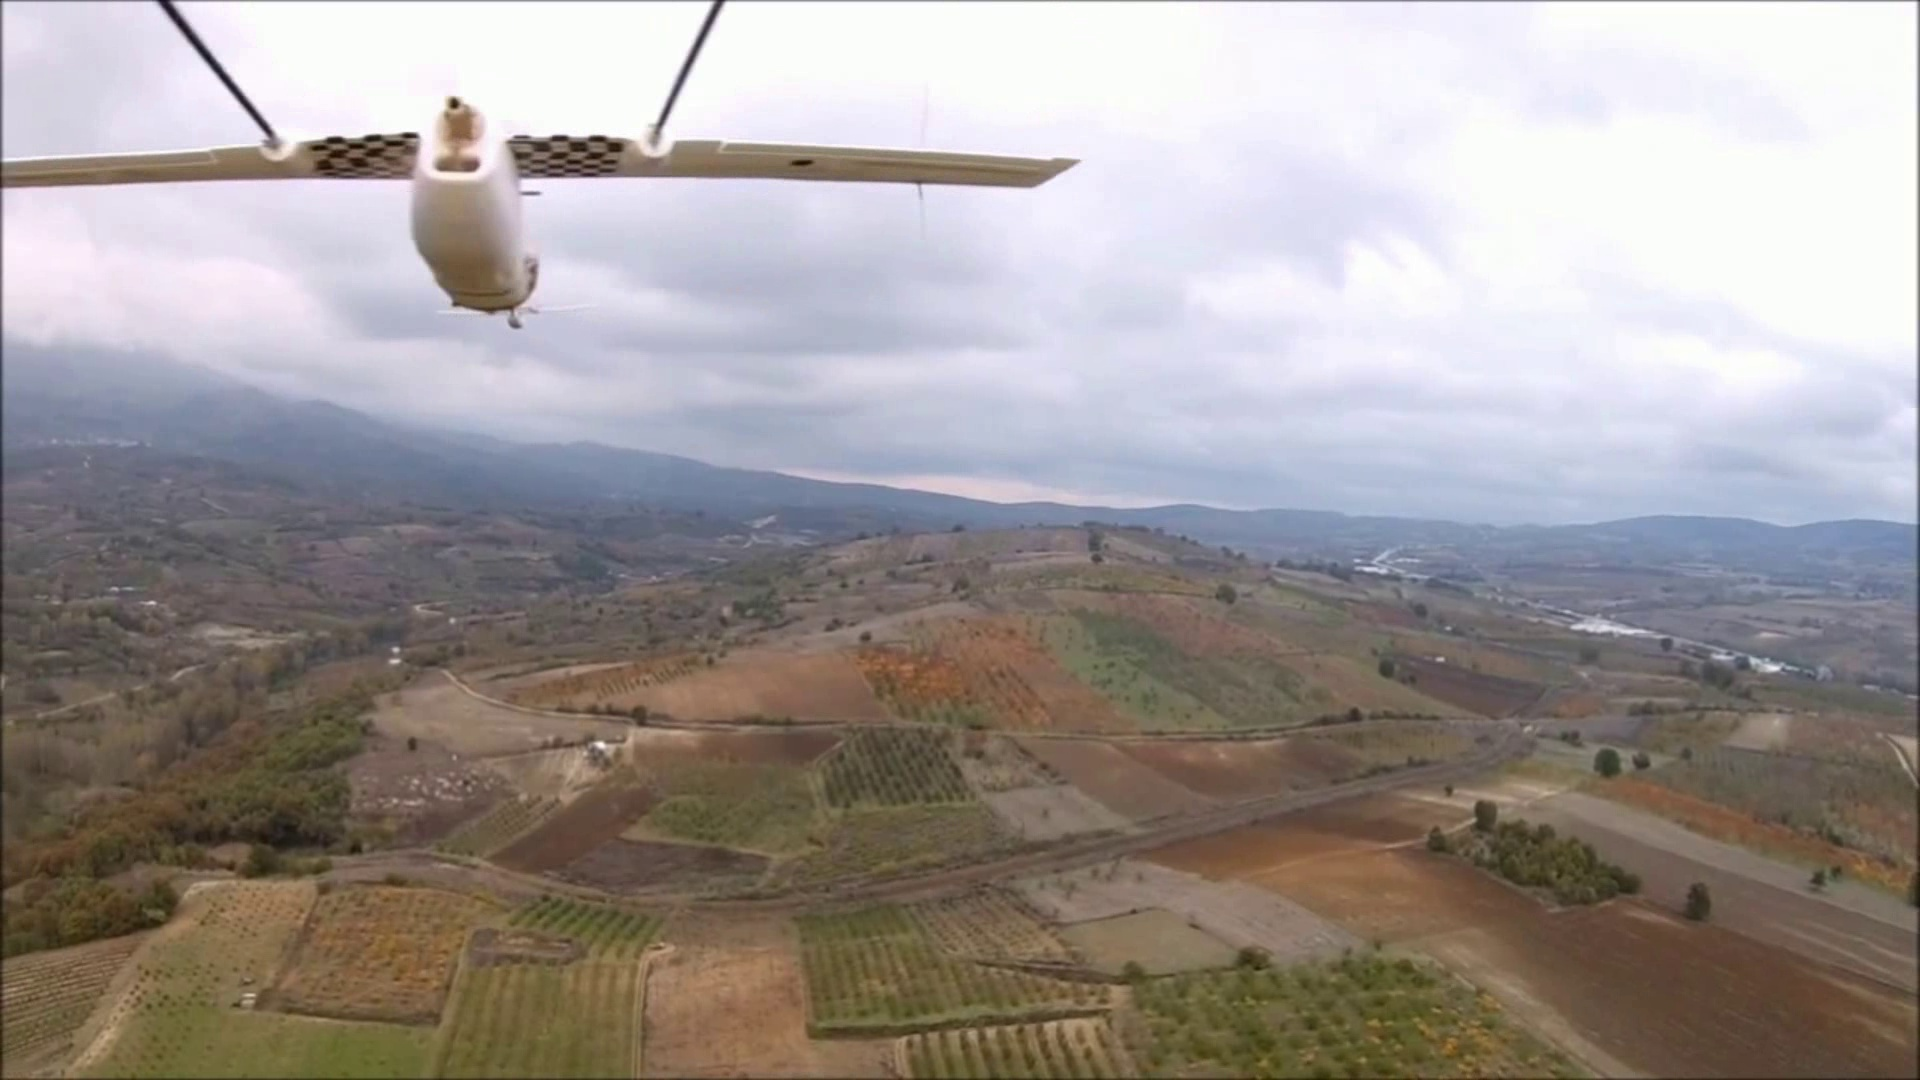airplane: (7, 3, 1085, 324)
